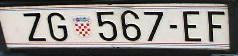-: (169, 23, 178, 30)
5: (96, 9, 118, 41)
6: (120, 9, 142, 42)
7: (144, 8, 163, 43)
E: (183, 9, 203, 43)
F: (208, 9, 226, 43)
G: (48, 10, 69, 43)
Z: (22, 10, 47, 43)
